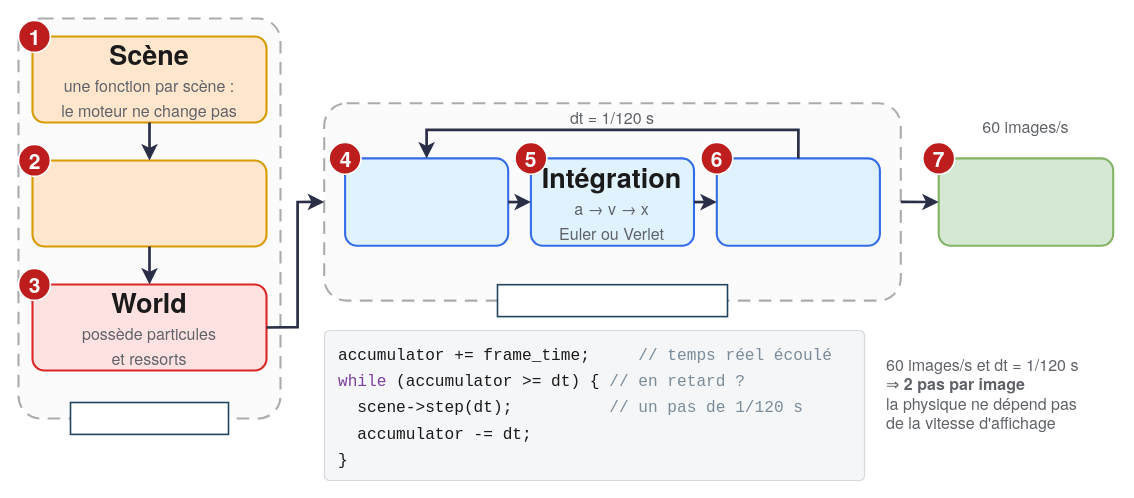
Some shapes in this 1134 by 498 pixel diagram are drawn without their labels. Each missing label, with the centre of its shape:
"AU CHARGEMENT" belongs at [149,418].
"BOUCLE À PAS FIXE" belongs at [612,300].
"Contraintes bords, rebond" belongs at [797,201].
"Dessin héritage en diamant interface Renderer" belongs at [1025,201].
"Forces appels virtuels" belongs at [426,201].
"Particules constructeurs délégués : aucun code dupliqué" belongs at [149,203].
